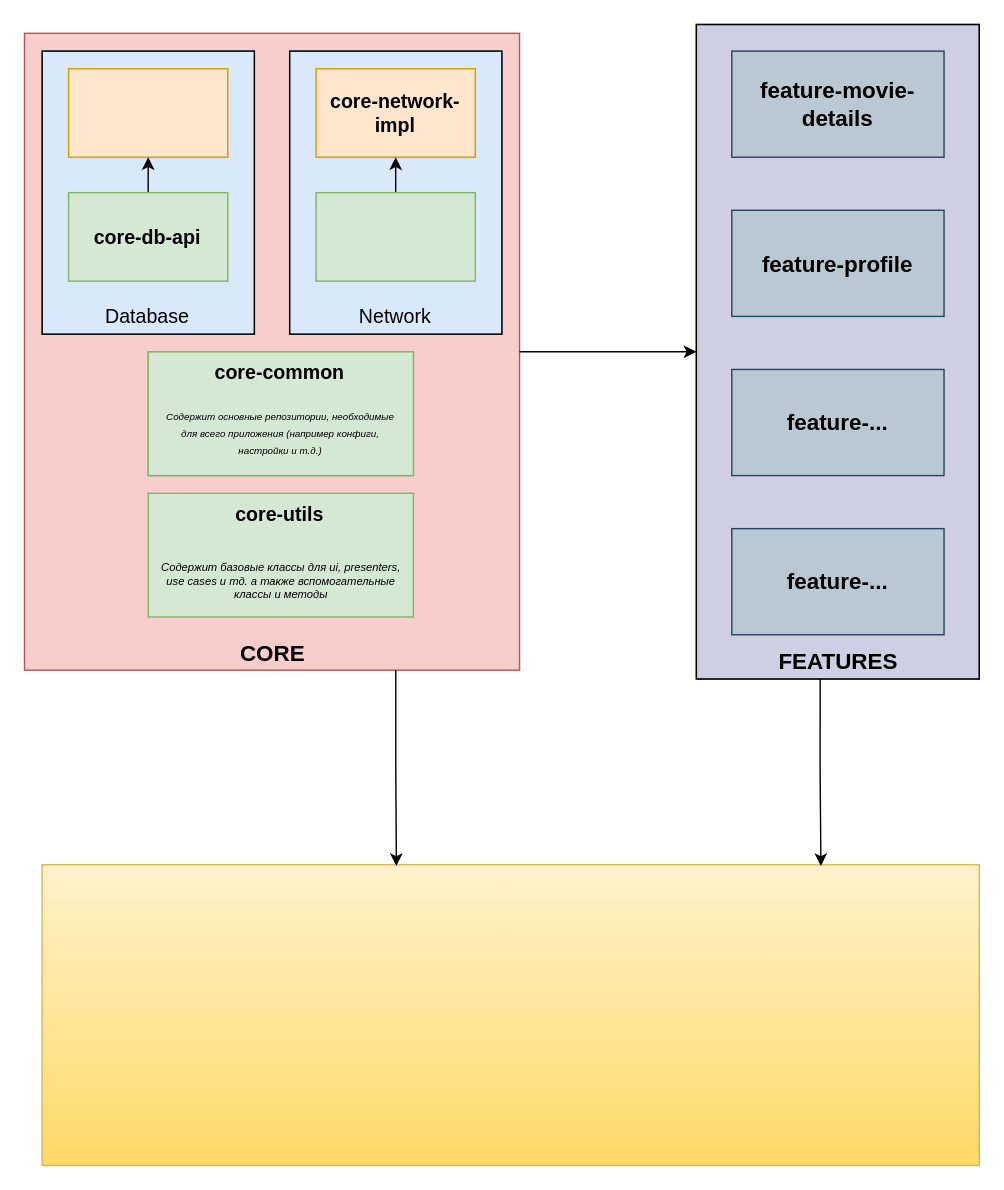
The diagram is 1004 pixels wide and 1190 high, and some of its shapes have lost their labels. The centre of each missing label's shape, as x and y in pixels:
"APPLICATION" belongs at point (510, 1014).
"core-db-impl" belongs at point (147, 112).
"core-network-api" belongs at point (395, 236).
